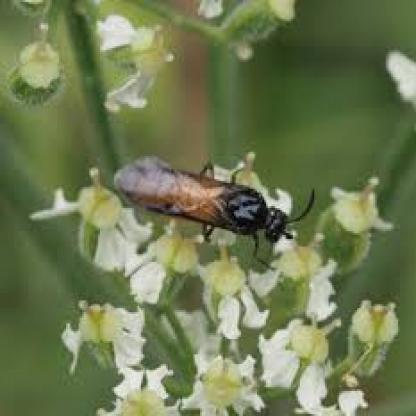sawfly: (114, 156, 318, 260)
